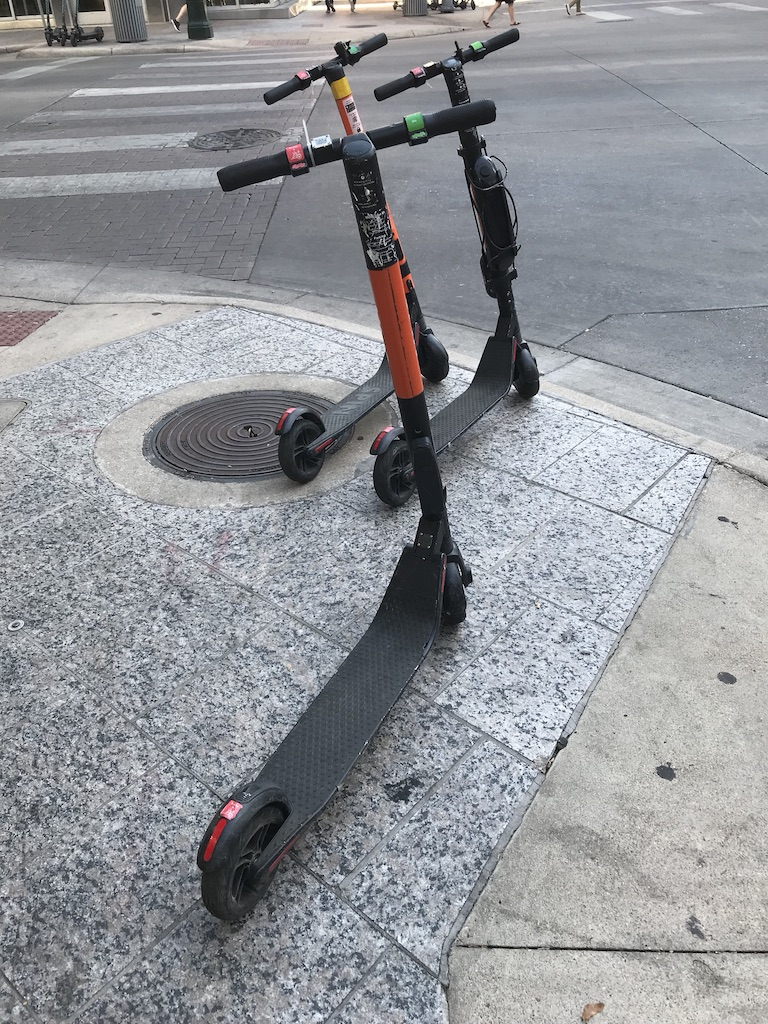scooter: (194, 98, 495, 923), (373, 128, 539, 505), (275, 352, 394, 483), (373, 25, 524, 109), (264, 32, 390, 131), (387, 205, 449, 376)
